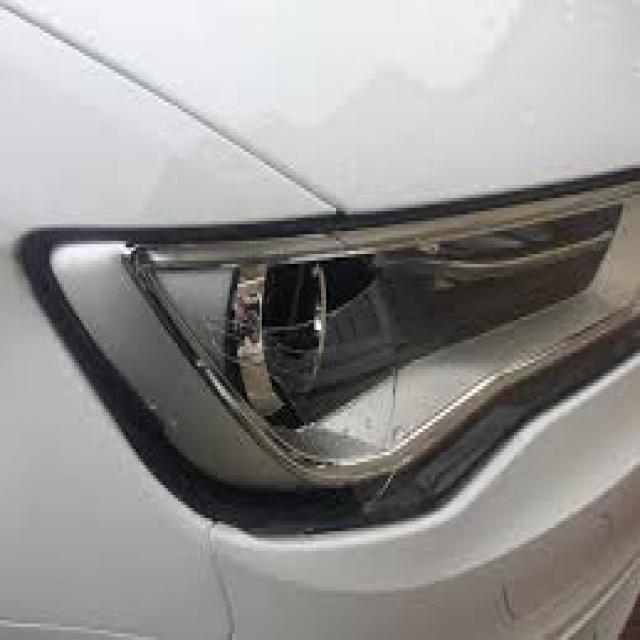damaged-head-light: (49, 181, 640, 505)
